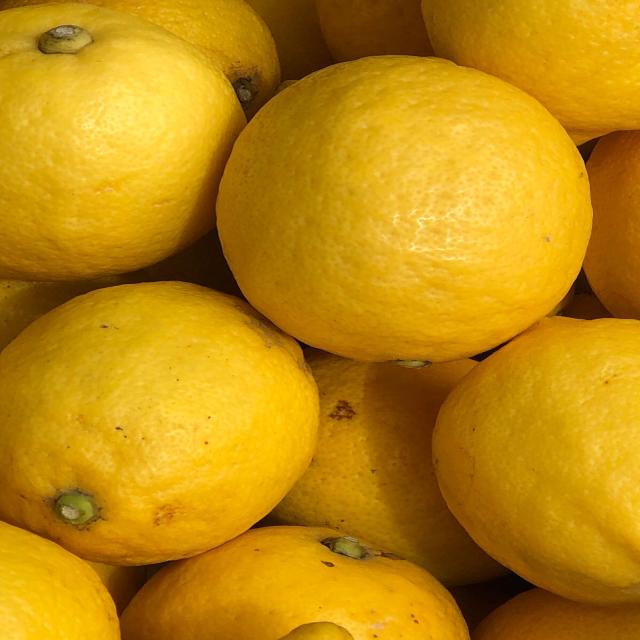lemon: (216, 38, 597, 367), (4, 277, 325, 567)
